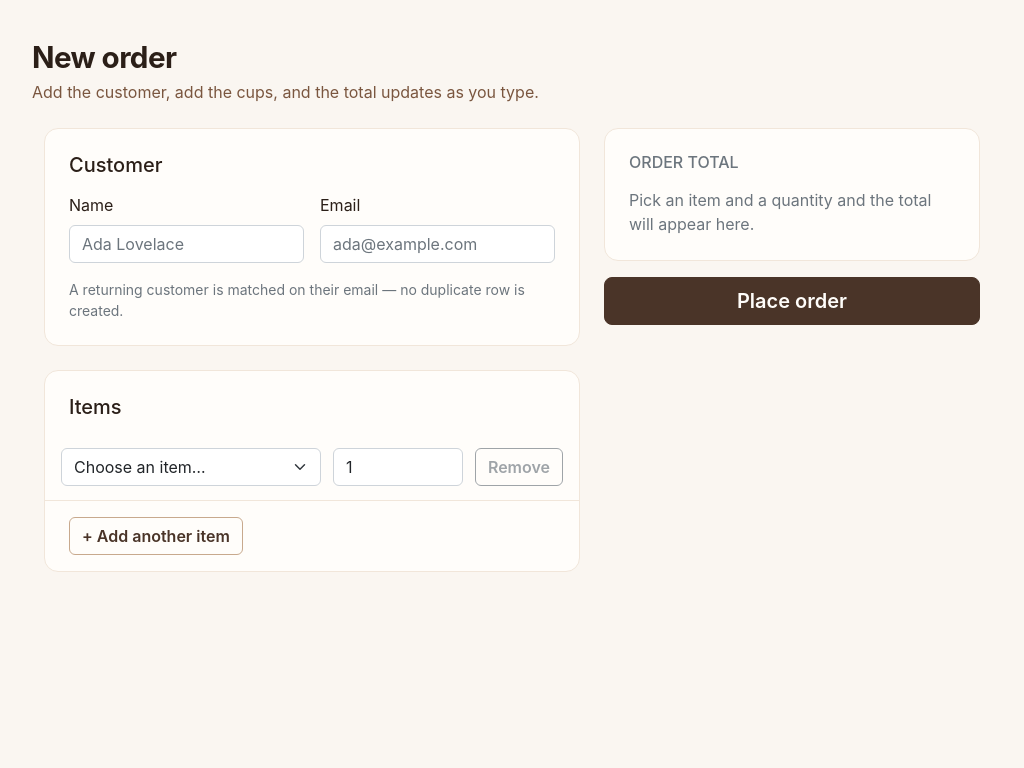
<Order /> › refuses to post an order with no customer
Expected: the field labelled "Name" is shown, [69,224,304,262]
Select "Espresso" in the dropdown named "Item" at (191,467), box [61,448,321,486]
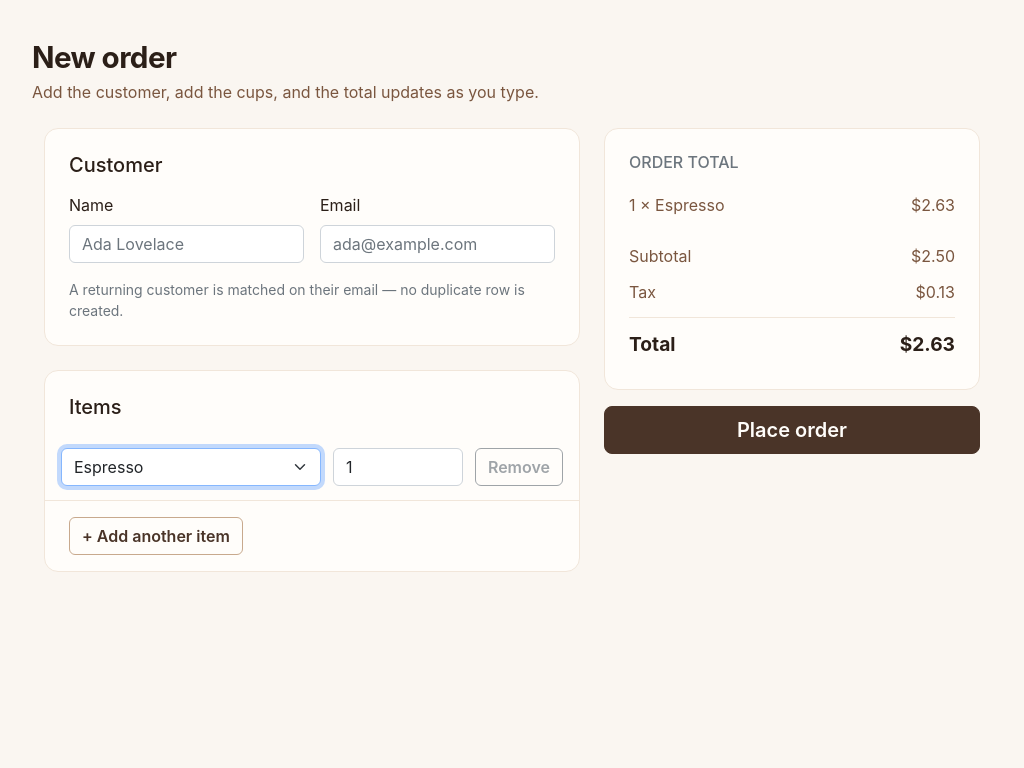
Click the button "Place order".
click(792, 430)  # box [604,406,980,454]
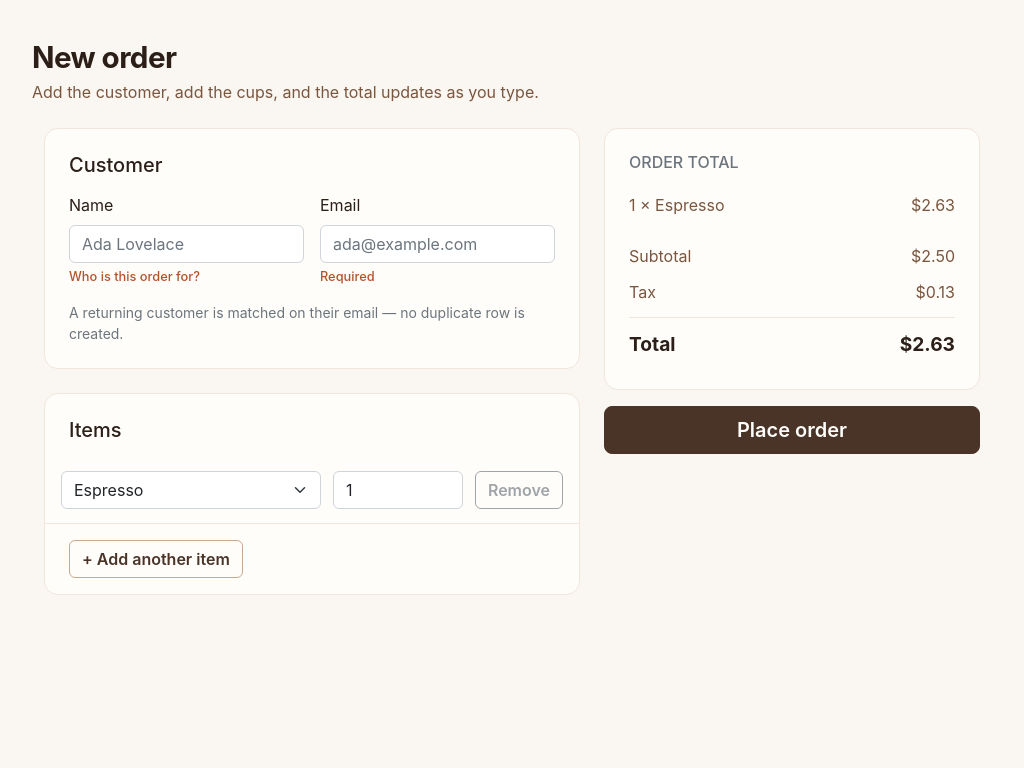
Expected: the text "Who is this order for?" is shown, [69,268,200,284]
